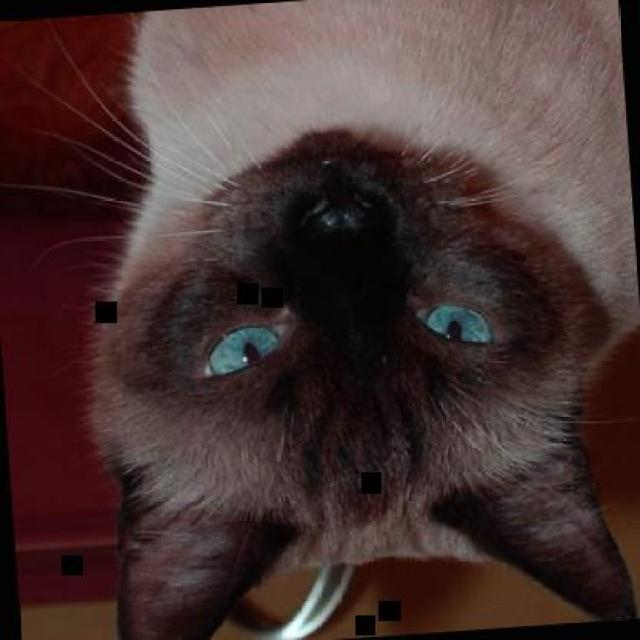cat: (72, 0, 638, 638)
